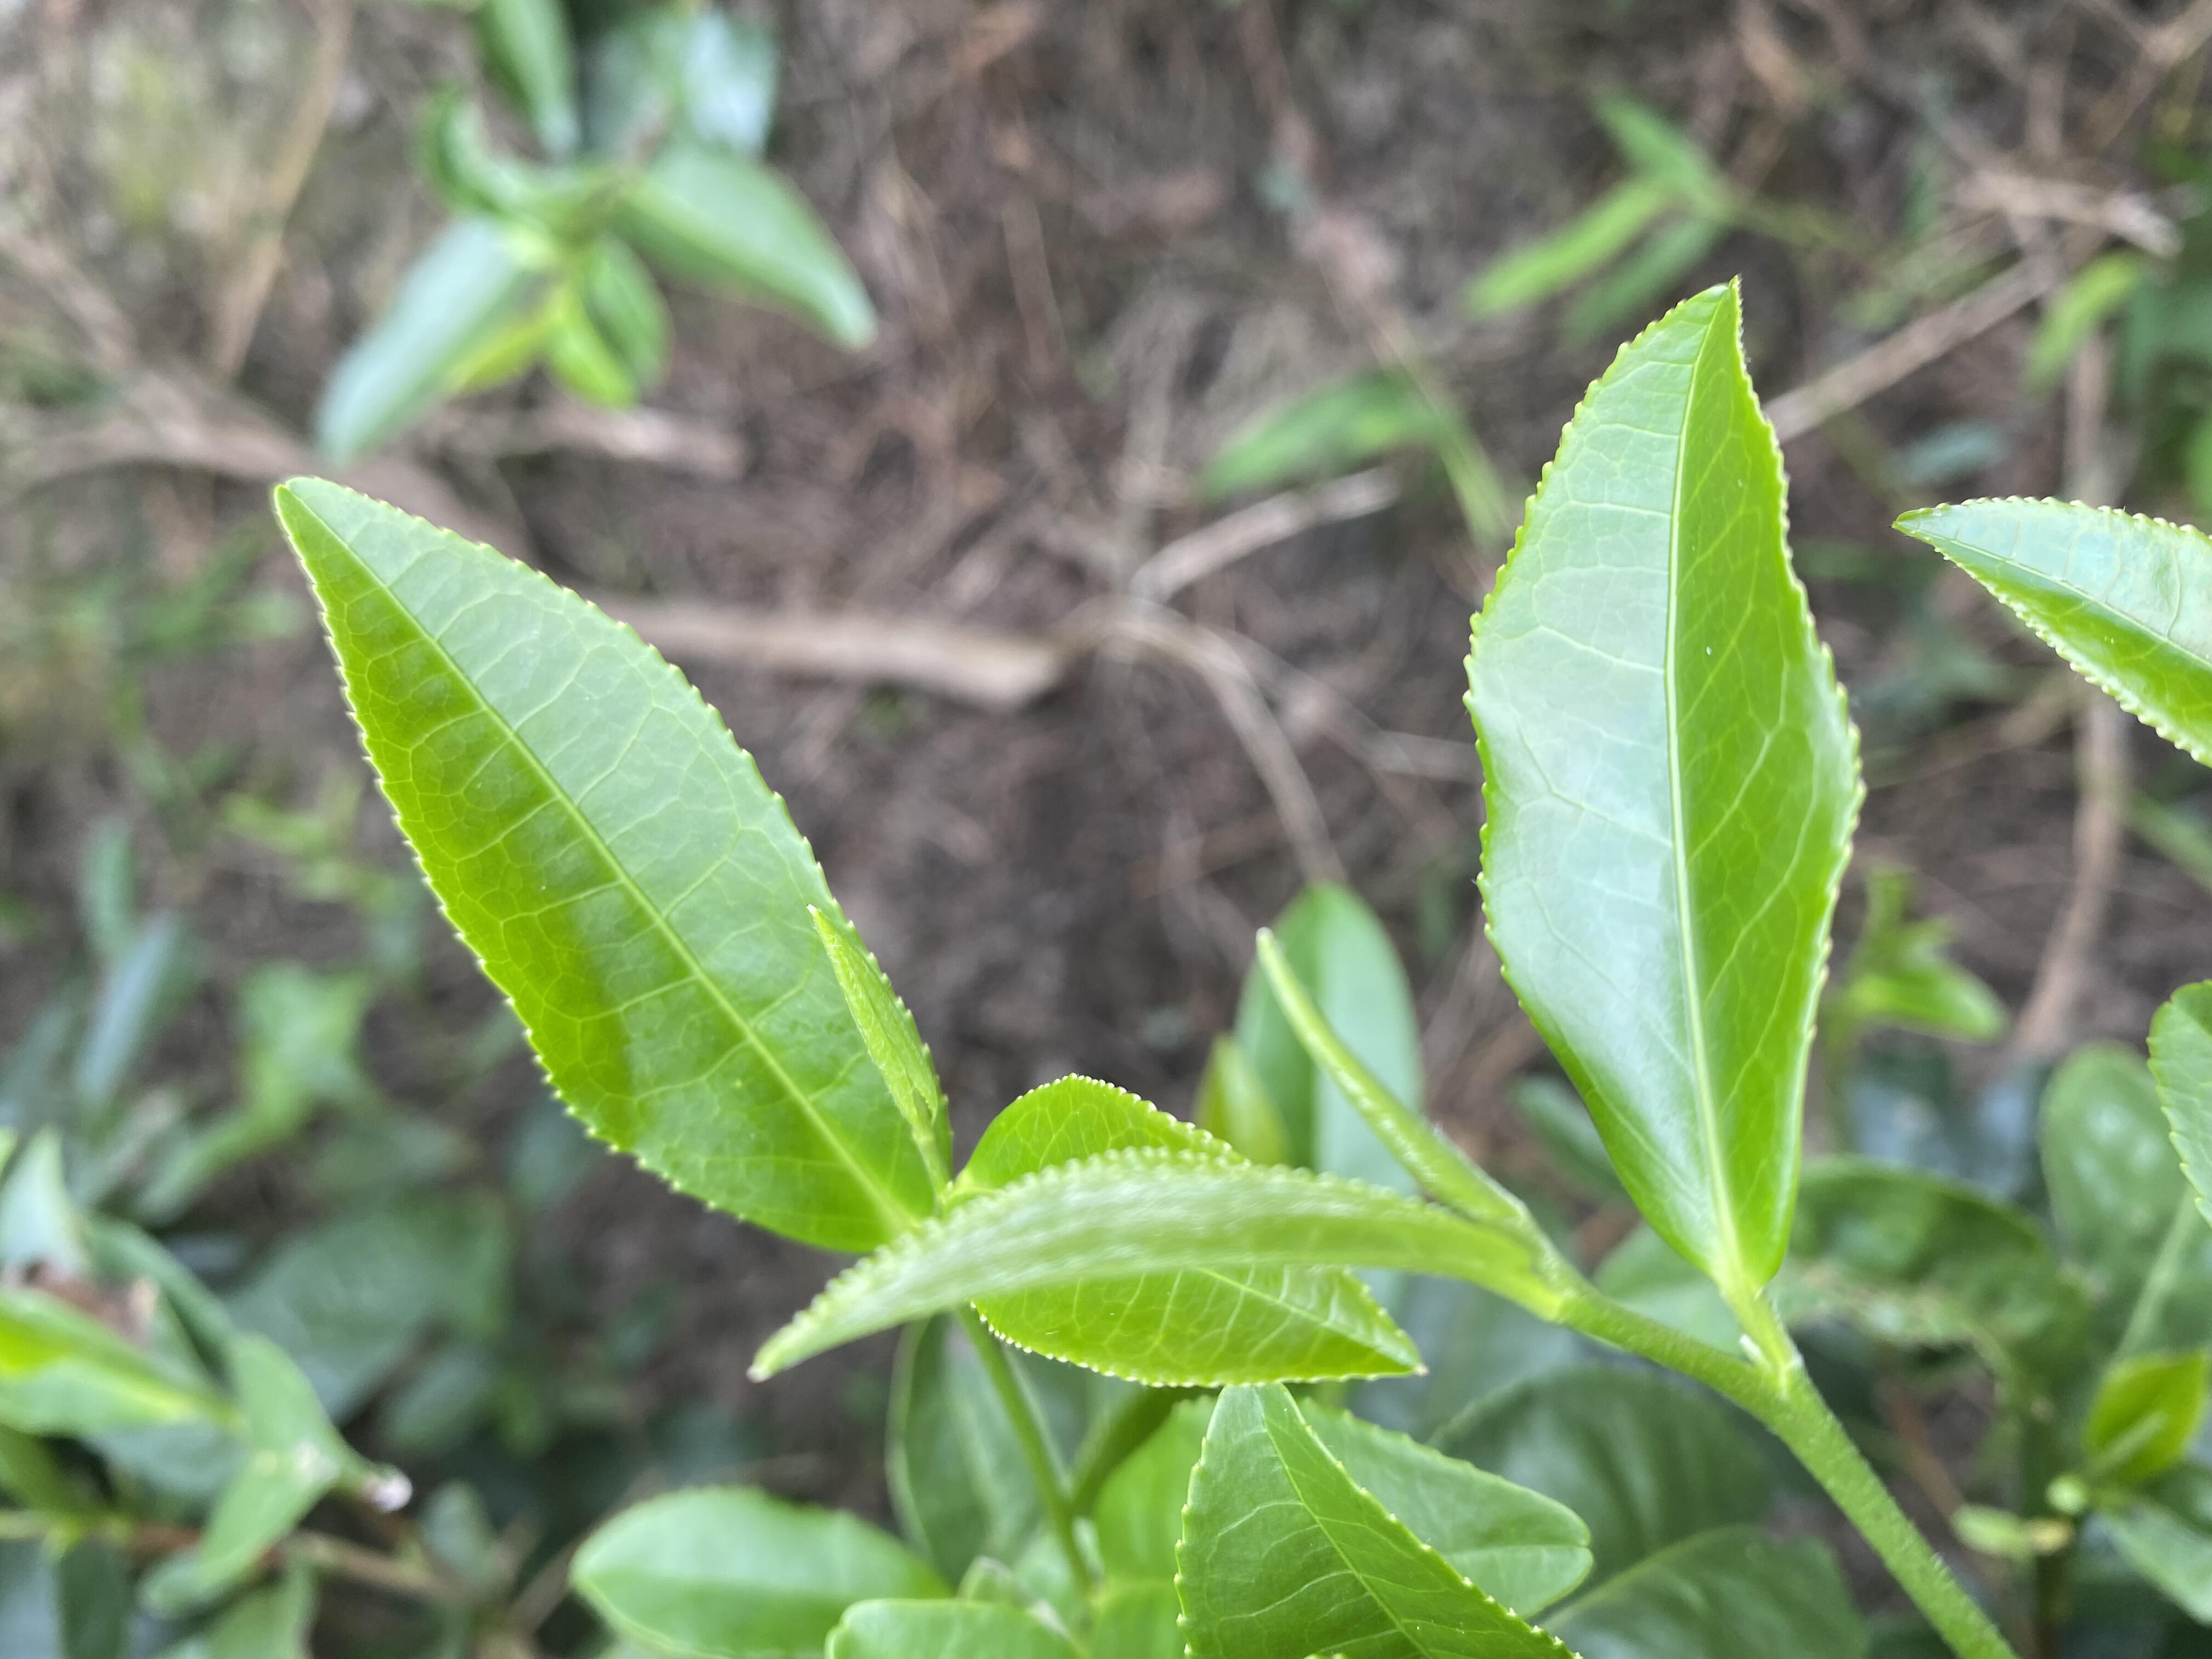healthy: (272, 472, 953, 1256), (1460, 270, 1869, 1300), (944, 1072, 1433, 1387), (1174, 1387, 1580, 1654), (1892, 493, 2212, 763)
